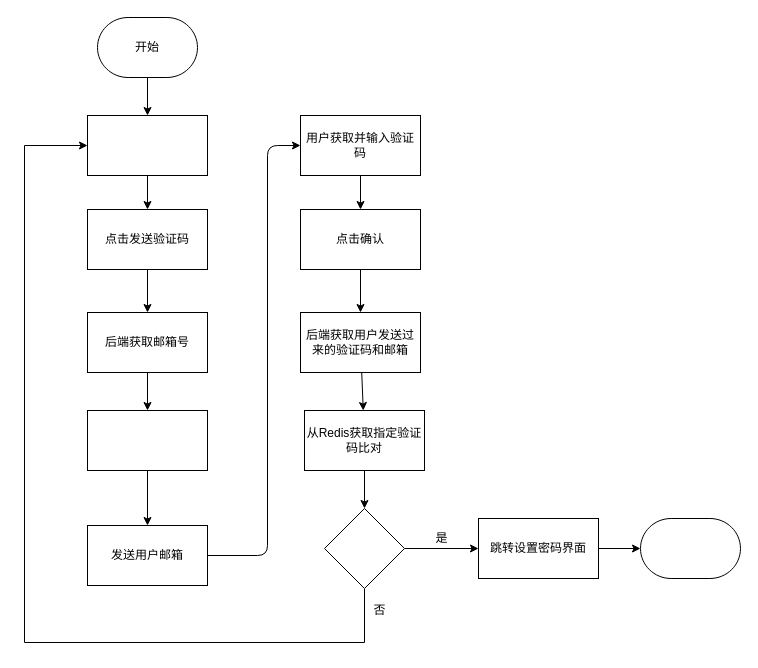
Some shapes in this 758 by 668 pixel diagram are drawn without their labels. The shapes that lost their labels are listed below. From the top down, each one's box as (x1, y1, x2, y2) in pixels, then its label:
(86, 114, 208, 176): 用户填写邮箱
(86, 410, 208, 470): 生成随机验证码 并存储到Redis
(324, 508, 404, 588): 校验验证码
(640, 518, 740, 578): 结束
